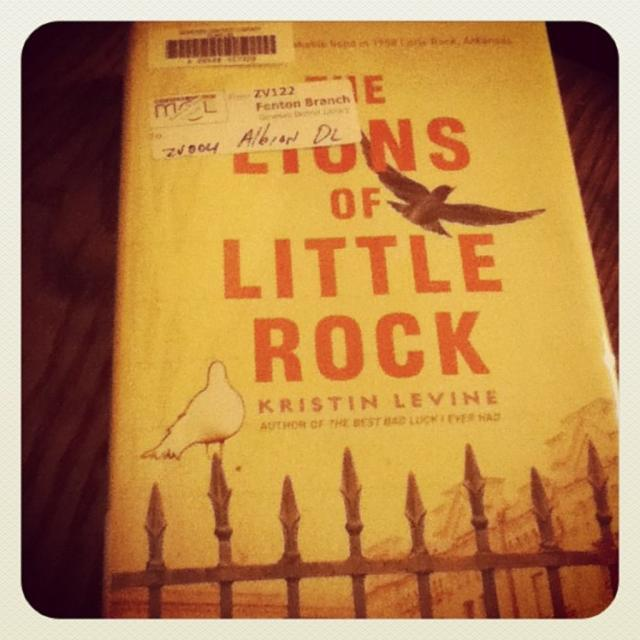book: (33, 30, 634, 640)
